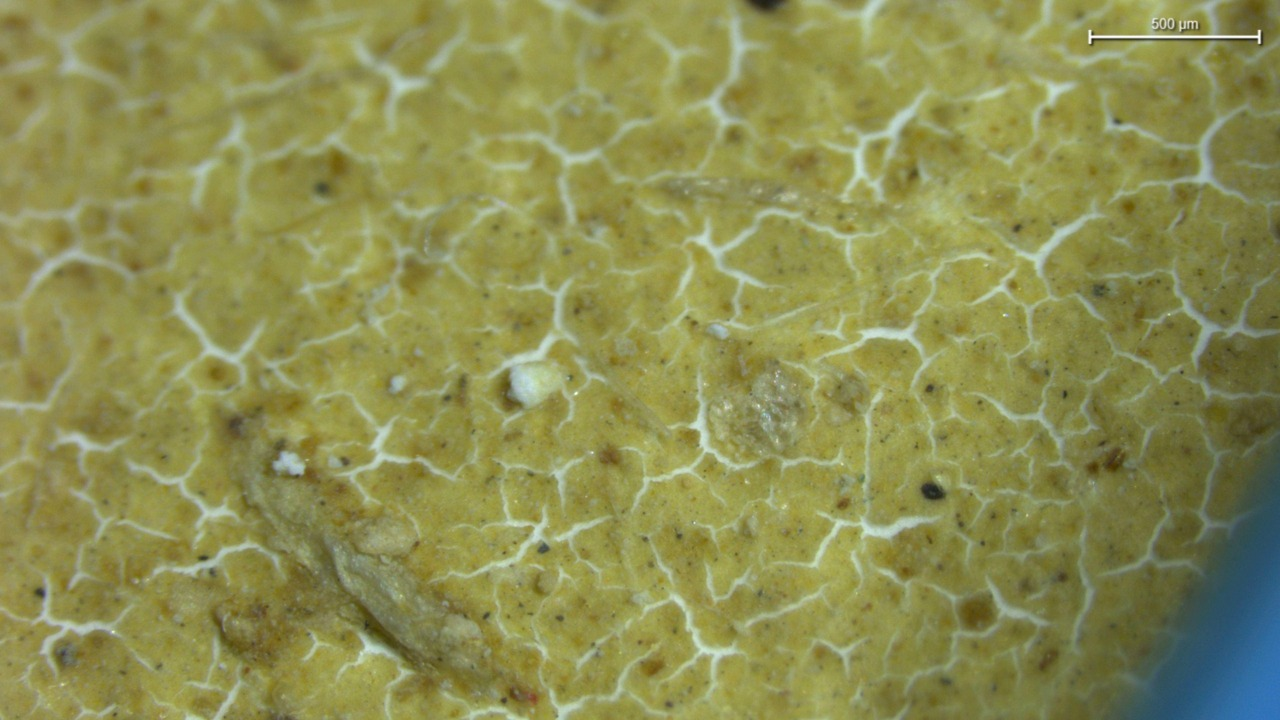microplastic_fragment: (507, 361, 563, 408)
